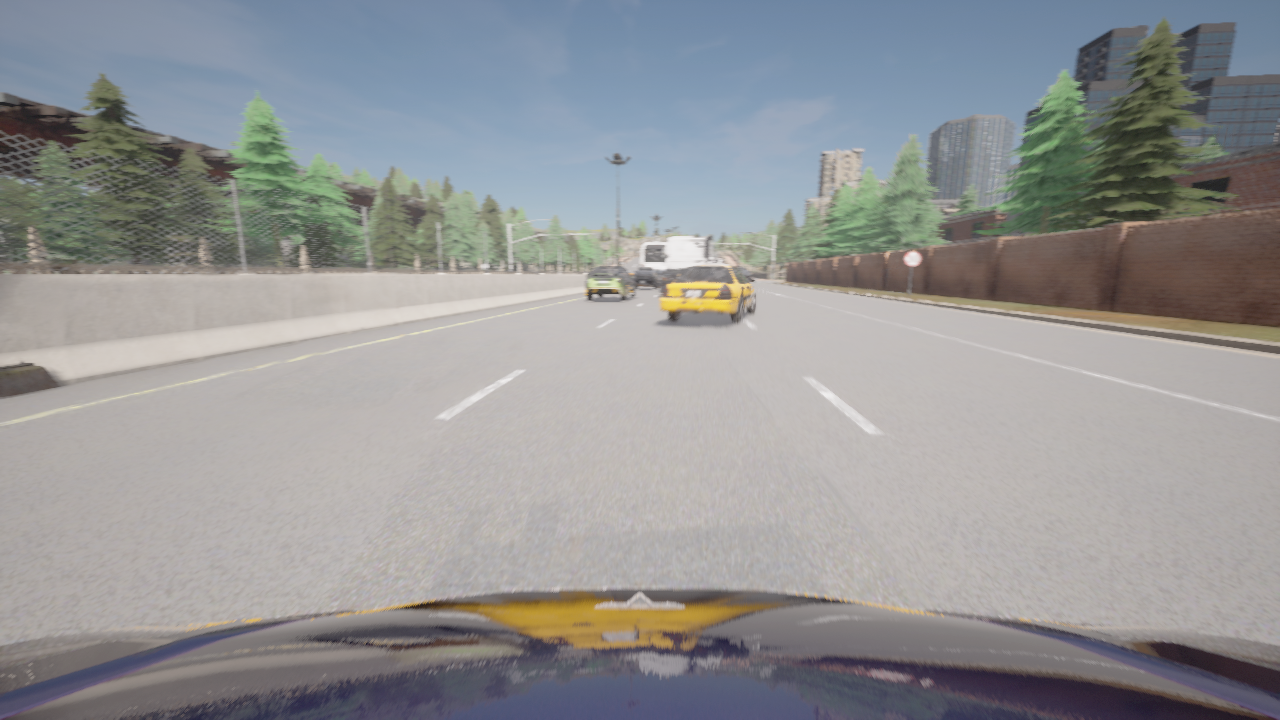cyclist: (0, 588, 1279, 719), (660, 259, 756, 324), (661, 235, 716, 294), (585, 267, 635, 301), (641, 243, 667, 280), (633, 268, 659, 289), (739, 268, 751, 280)
